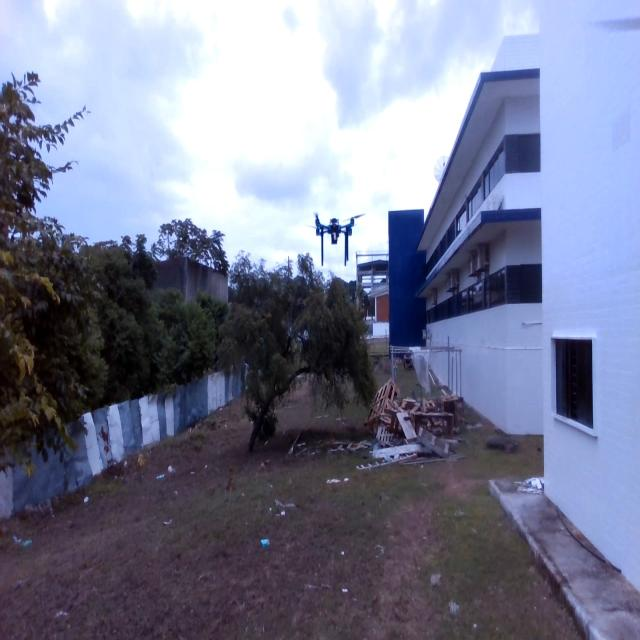-uav-: (302, 192, 371, 290)
